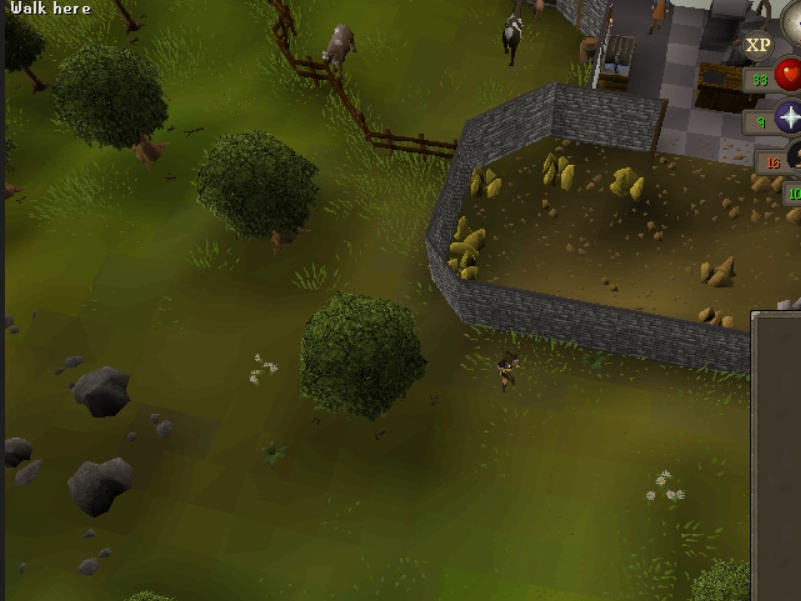clay: (698, 246, 739, 290), (749, 152, 790, 196), (691, 305, 739, 338)
gold: (464, 160, 508, 201), (537, 149, 581, 190), (608, 159, 652, 200), (447, 213, 491, 254), (442, 251, 486, 292)
